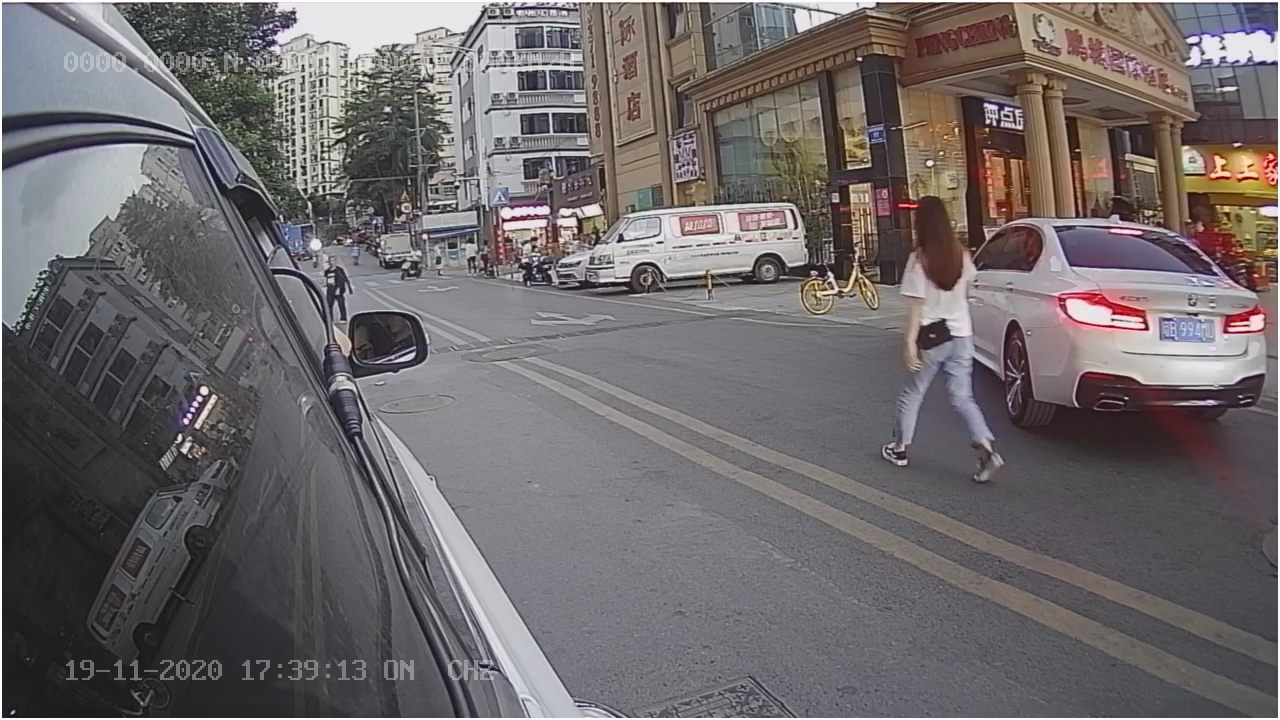person: (873, 195, 1012, 485)
